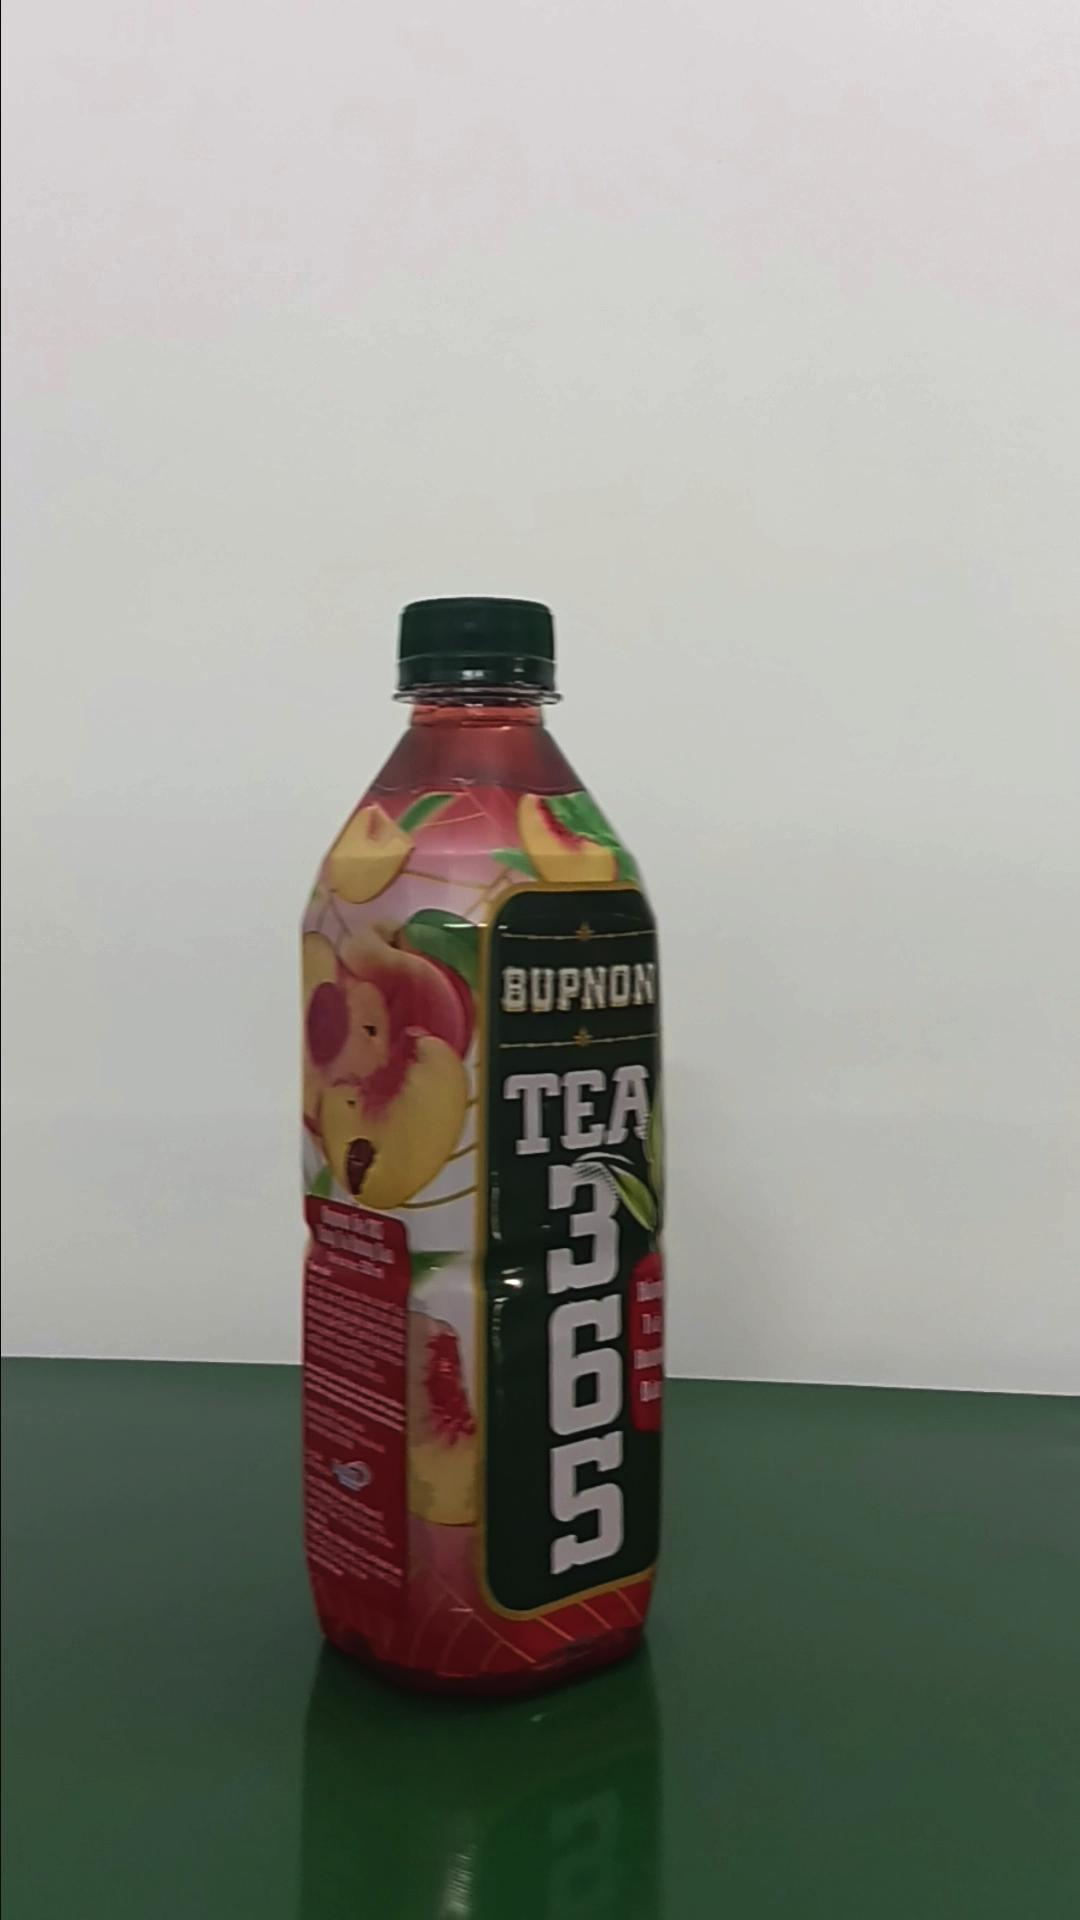loi rach va lap chai: (291, 588, 673, 1712)
